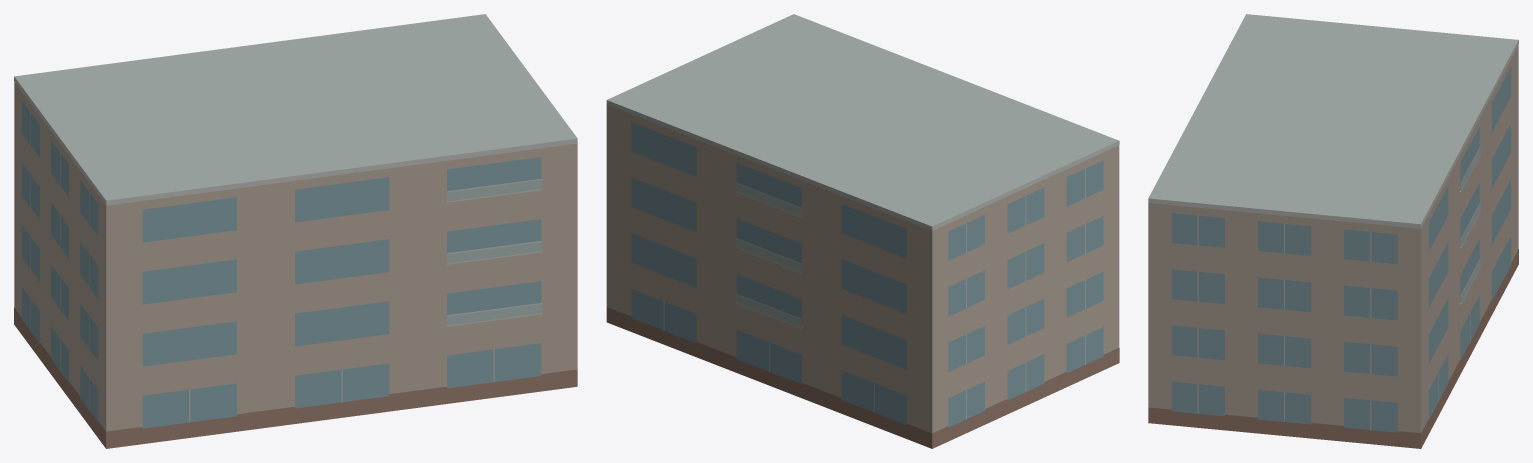
File: residential-27be92d6-ab15-41dc-9ce4-1ae4967131af.glb
3 views of the same model, side by side, from view 1: azimuth 30°, elevation 25°; view 2: azimuth 150°, elevation 25°; view 3: azimuth 270°, elevation 25° (orthographic). The views are drawn at different scales.
Visible parts, largest first — view 1: residential-27be92d6-ab15-41dc-9ce4-1ae4967131af.tmp; view 2: residential-27be92d6-ab15-41dc-9ce4-1ae4967131af.tmp; view 3: residential-27be92d6-ab15-41dc-9ce4-1ae4967131af.tmp.
Boxes of the visible parts, x1=… form: residential-27be92d6-ab15-41dc-9ce4-1ae4967131af.tmp: x1=14, y1=14, x2=577, y2=448; residential-27be92d6-ab15-41dc-9ce4-1ae4967131af.tmp: x1=606, y1=14, x2=1119, y2=448; residential-27be92d6-ab15-41dc-9ce4-1ae4967131af.tmp: x1=1148, y1=14, x2=1518, y2=448.
Bounding box in the file's own units: 24.5 × 12.2 × 18.25.
